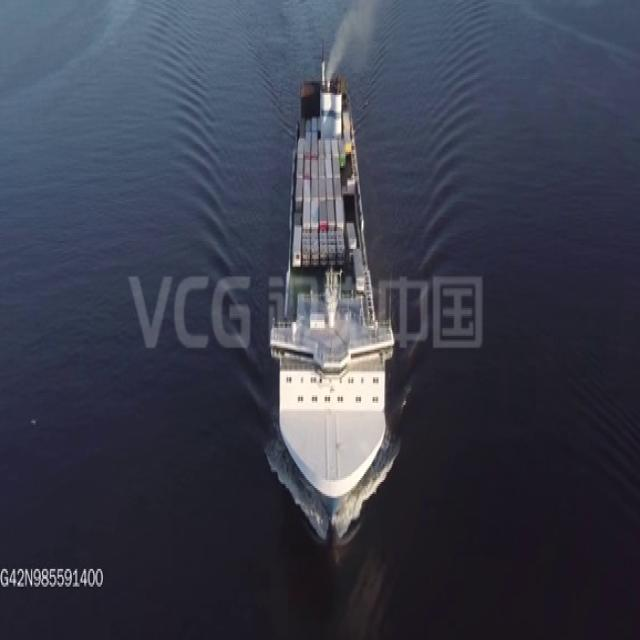cargoship: (273, 57, 382, 553)
